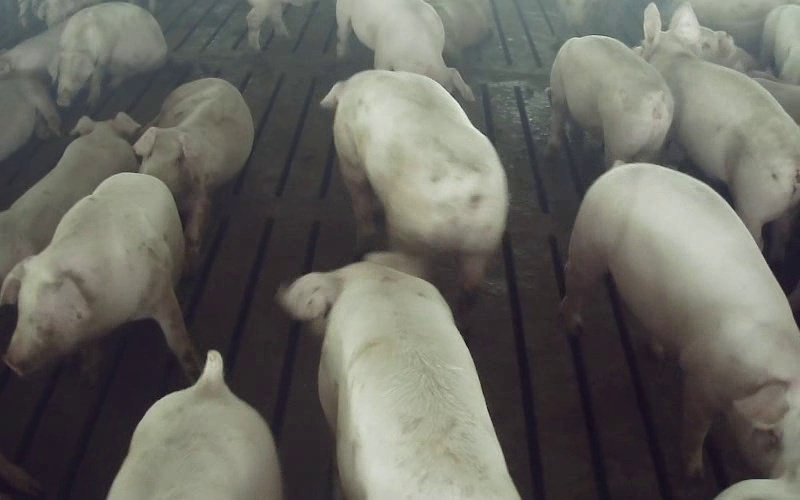pig: (562, 164, 799, 470), (280, 253, 518, 499), (0, 173, 199, 376), (322, 70, 507, 284), (641, 3, 799, 245), (0, 112, 139, 284), (134, 78, 253, 254), (548, 35, 673, 164), (337, 0, 474, 100), (58, 2, 166, 106)
